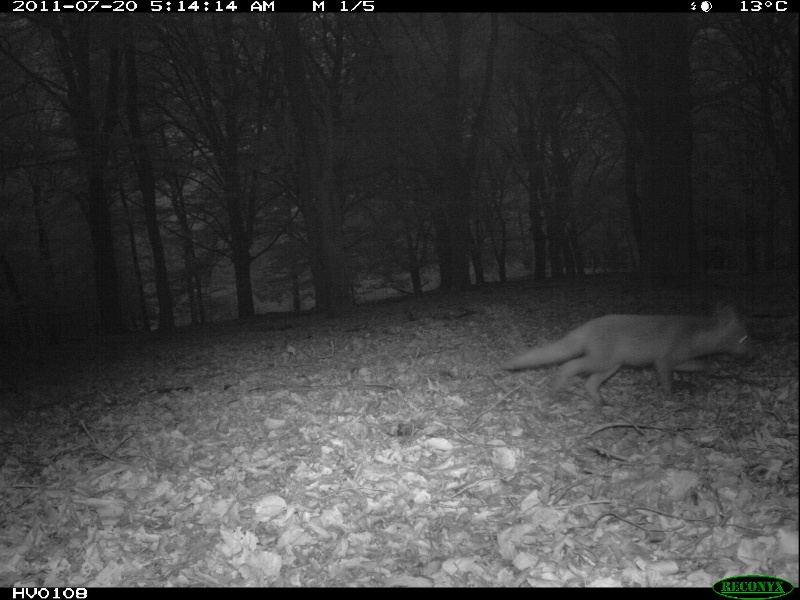fox: (505, 300, 759, 416)
